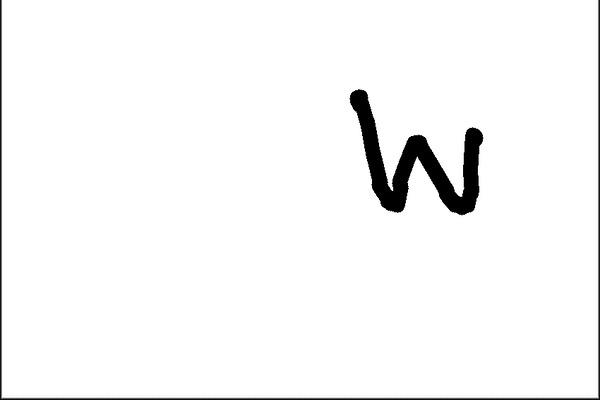w: (325, 67, 497, 236)
